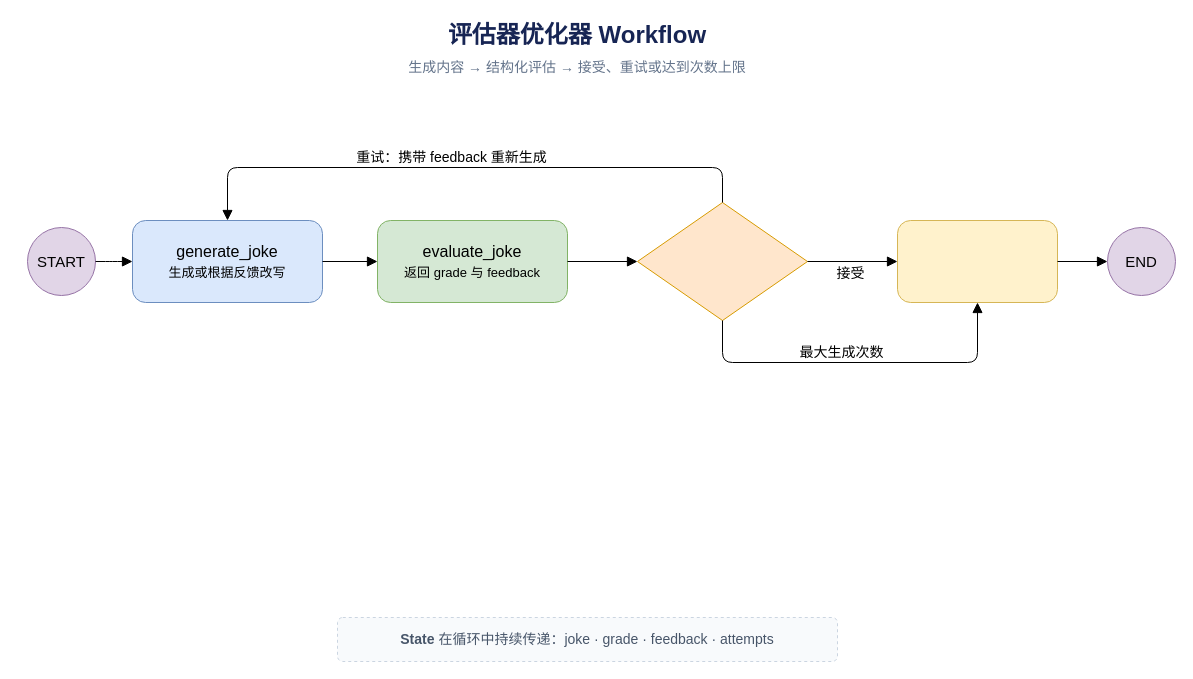
This 1193x679 diagram has some shape labels left out. The box of each missing label's shape, as (x1, y1, x2, y2) in pixels:
finish 写入 stop_reason: (896, 220, 1058, 302)
路由判断 grade 与 attempts: (636, 202, 808, 320)
